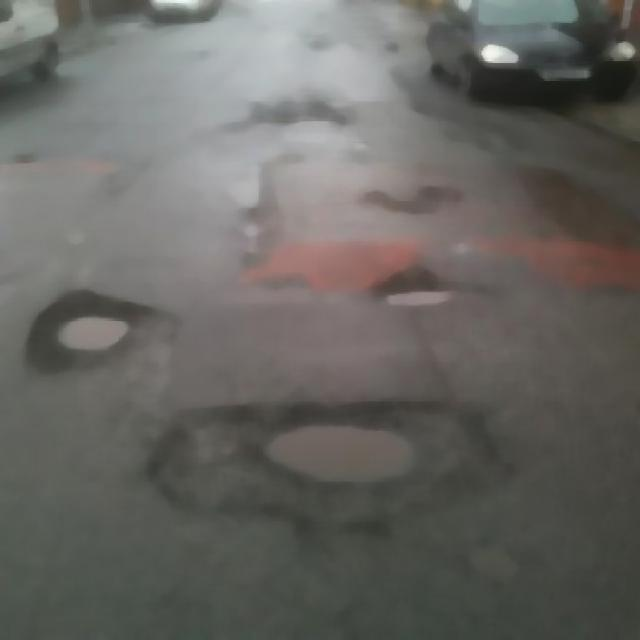pothole: (263, 371, 466, 504), (23, 239, 146, 384)
